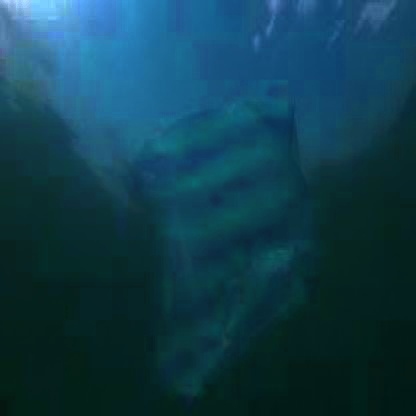pbag: (134, 86, 314, 416)
